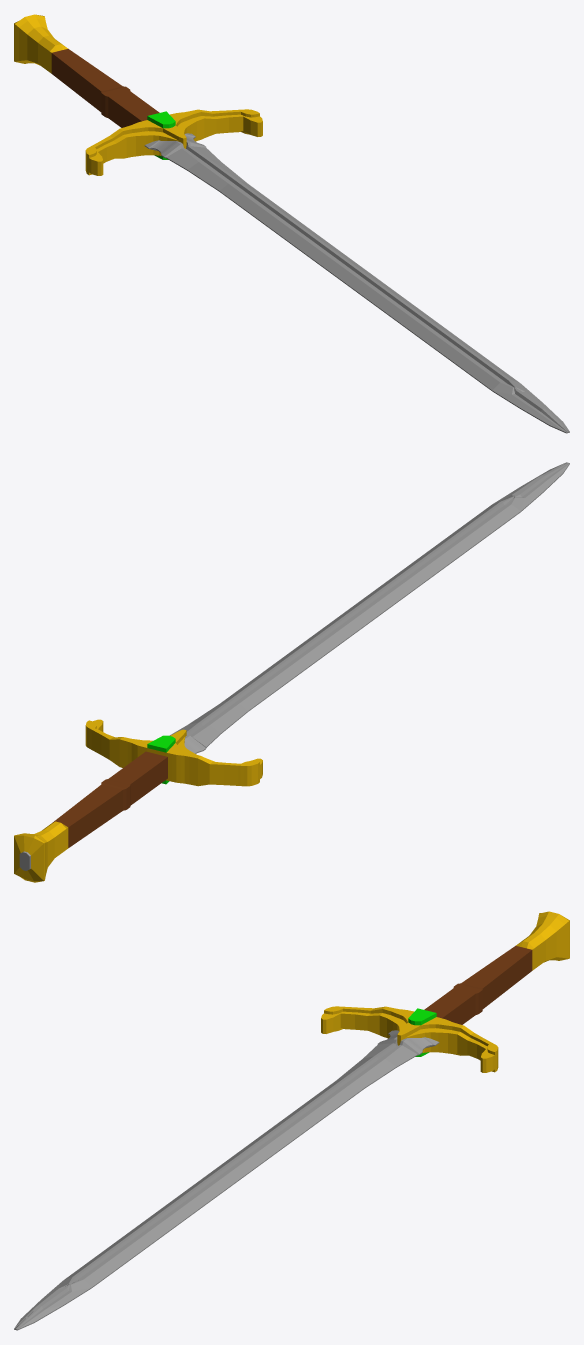
File: FSword.fbx
3 renders of one model, top to bottom at view 1: azimuth 30°, elevation 25°; view 2: azimuth 150°, elevation 25°; view 3: azimuth 330°, elevation 25°, orthographic.
Visible parts, largest first — view 1: FSword; view 2: FSword; view 3: FSword.
Part boxes in pixels (box(x1,y1,x2,y2)): FSword: box(14, 14, 569, 433); FSword: box(14, 462, 569, 882); FSword: box(14, 911, 569, 1330).
Bounding box in the file's own units: 130 × 34.27 × 717.
